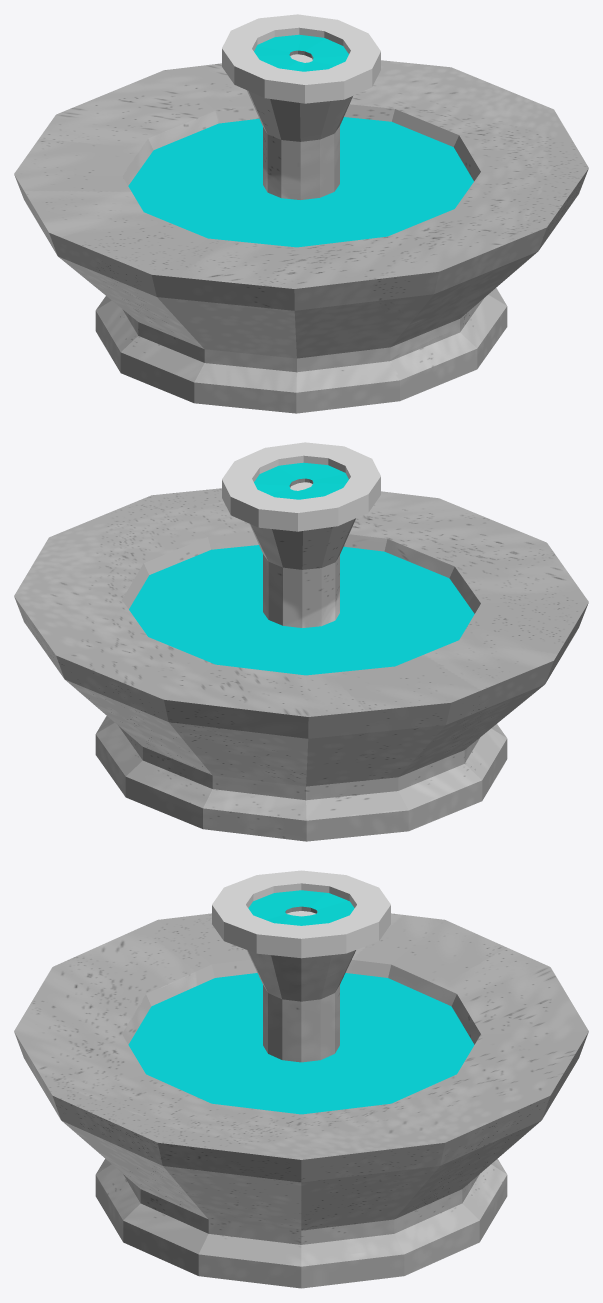
File: fountain_ggj.fbx
The picture shows the model from 3 angles, top to bottom: view 1: azimuth 30°, elevation 25°; view 2: azimuth 150°, elevation 25°; view 3: azimuth 270°, elevation 25°; orthographic projection. The views are drawn at different scales.
Parts seen in each view (by area): view 1: Cylinder, Cylinder.001, Cylinder.002; view 2: Cylinder, Cylinder.001, Cylinder.002; view 3: Cylinder, Cylinder.001, Cylinder.002.
Boxes of the visible parts, x1,y1,x2,y2 form: Cylinder: (14,34,588,413); Cylinder.001: (128,117,473,247); Cylinder.002: (222,14,380,103); Cylinder: (14,462,588,841); Cylinder.001: (129,545,474,675); Cylinder.002: (222,442,380,531); Cylinder: (14,890,588,1288); Cylinder.001: (128,973,474,1114); Cylinder.002: (212,870,390,958).
Bounding box in the file's own units: 974 × 515 × 919.
